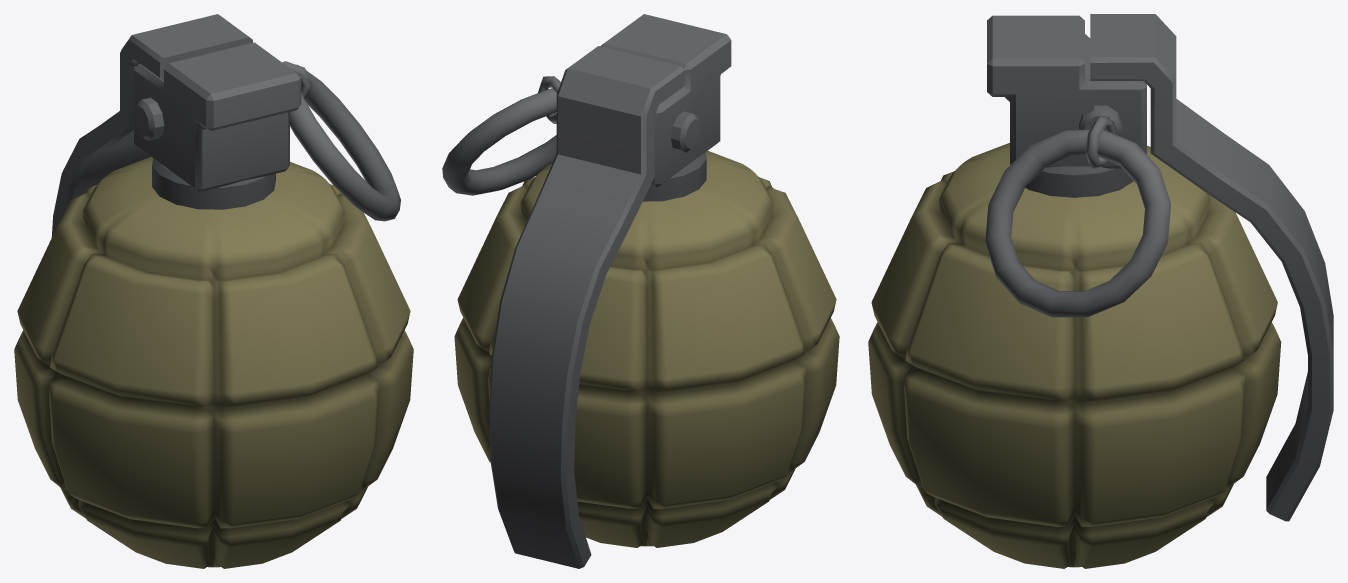
Rendered from grenade.glb.
3 views of the same model, side by side, from view 1: azimuth 30°, elevation 25°; view 2: azimuth 150°, elevation 25°; view 3: azimuth 270°, elevation 25° (orthographic). The views are drawn at different scales.
Parts seen in each view (by area): view 1: grenade_body, grenade_fuse_top, grenade_lever, grenade_pull_ring; view 2: grenade_body, grenade_lever, grenade_fuse_top, grenade_pull_ring; view 3: grenade_body, grenade_lever, grenade_fuse_top, grenade_pull_ring.
Boxes of the visible parts, bbox=[...] form: grenade_body: bbox=[14, 157, 413, 568]; grenade_fuse_top: bbox=[132, 42, 301, 209]; grenade_lever: bbox=[51, 14, 252, 237]; grenade_pull_ring: bbox=[282, 61, 400, 221]; grenade_body: bbox=[454, 150, 839, 547]; grenade_lever: bbox=[489, 46, 684, 568]; grenade_fuse_top: bbox=[600, 14, 731, 201]; grenade_pull_ring: bbox=[442, 76, 560, 195]; grenade_body: bbox=[868, 143, 1281, 568]; grenade_lever: bbox=[1090, 14, 1333, 521]; grenade_fuse_top: bbox=[987, 15, 1146, 197]; grenade_pull_ring: bbox=[985, 116, 1170, 317].
Bounding box in the file's own units: 0.0827 × 0.1098 × 0.0901.
